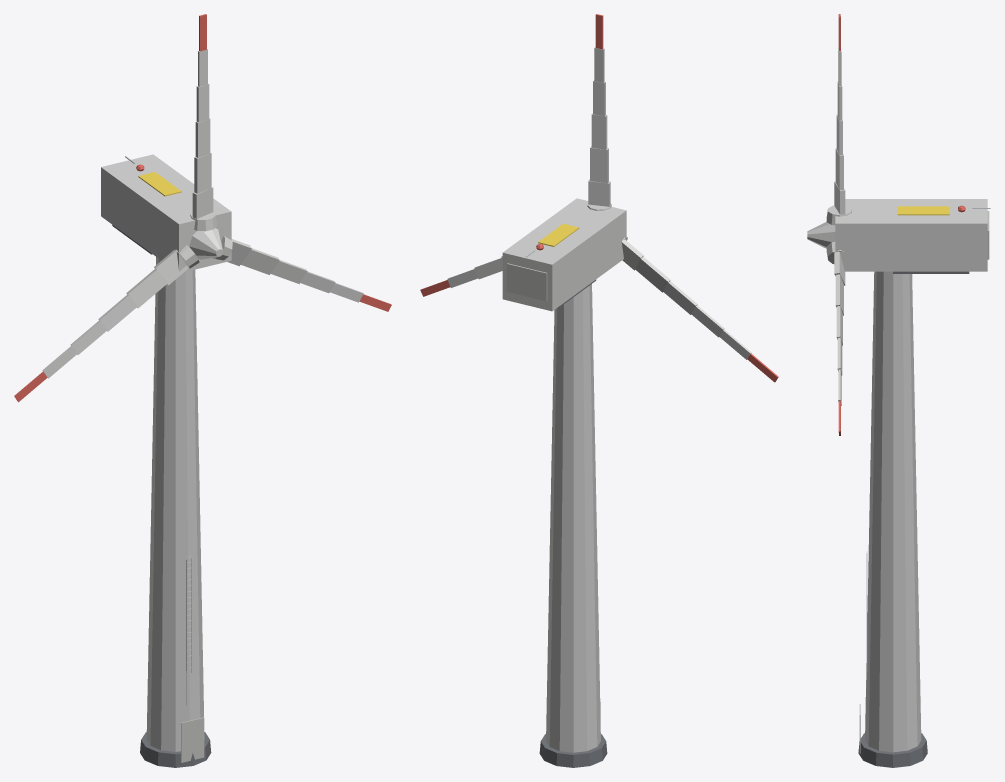
Rendered from wind-and-solar-energy-farm-wind-turbine-tower-2c747ef5__34049.glb.
3 views of the same model, side by side, from view 1: azimuth 30°, elevation 25°; view 2: azimuth 150°, elevation 25°; view 3: azimuth 270°, elevation 25° (orthographic). The views are drawn at different scales.
Parts seen in each view (by area): view 1: wind-turbine-tower, rotor/white, rotor/red; view 2: wind-turbine-tower, rotor/white, rotor/red; view 3: wind-turbine-tower, rotor/white.
Boxes of the visible parts, bbox=[...] form: wind-turbine-tower: bbox=[101, 154, 231, 767]; rotor/white: bbox=[42, 49, 363, 378]; rotor/red: bbox=[14, 14, 391, 402]; wind-turbine-tower: bbox=[502, 198, 626, 767]; rotor/white: bbox=[447, 47, 751, 359]; rotor/red: bbox=[420, 14, 778, 382]; wind-turbine-tower: bbox=[835, 199, 990, 767]; rotor/white: bbox=[807, 48, 851, 405].
Bounding box in the file's own units: 21.59 × 41.48 × 9.34.
